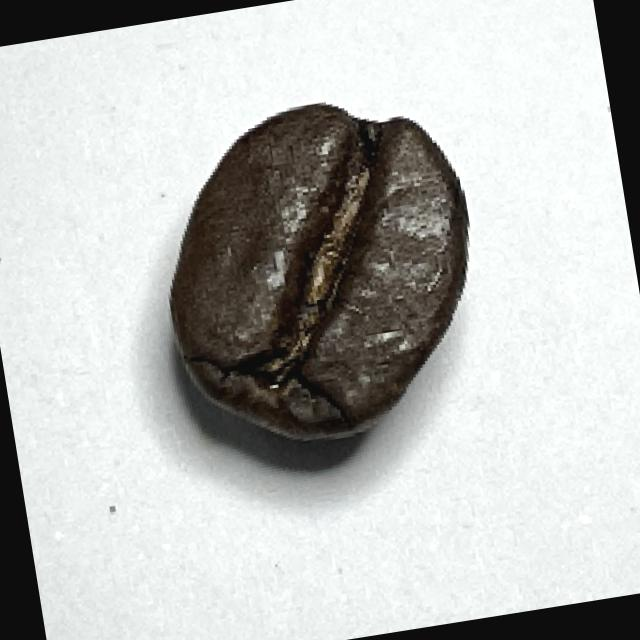bean: (140, 80, 503, 462)
